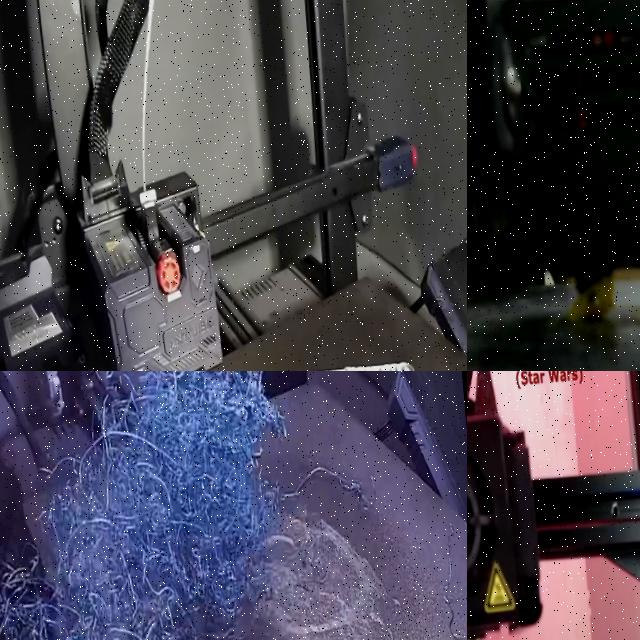spaghetti: (0, 371, 326, 640), (434, 514, 467, 640), (567, 276, 614, 323)
